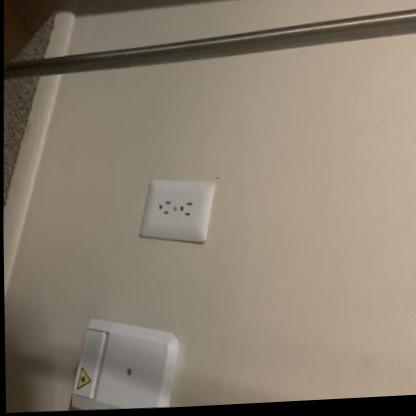OUTLET: (135, 174, 217, 241)
